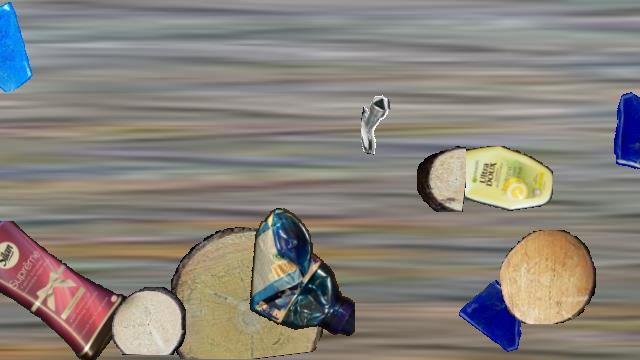glass: (457, 280, 535, 358), (601, 85, 640, 175), (0, 1, 35, 91)
metal: (361, 95, 423, 157)
plastic: (0, 221, 132, 359), (246, 206, 354, 342), (440, 146, 552, 212)
wood: (167, 227, 327, 359), (500, 230, 596, 324), (112, 287, 186, 355), (417, 145, 465, 211)
